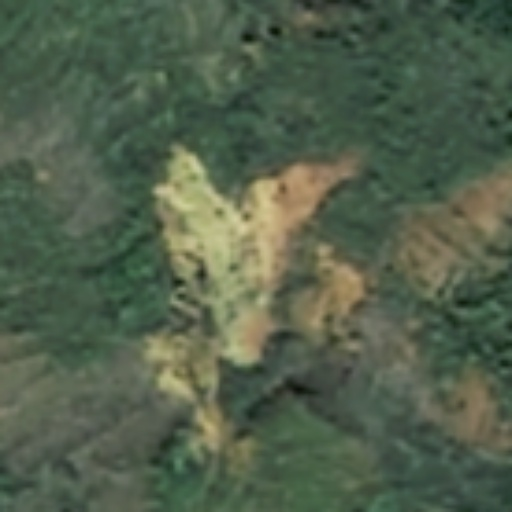landslide: (157, 141, 370, 366)
